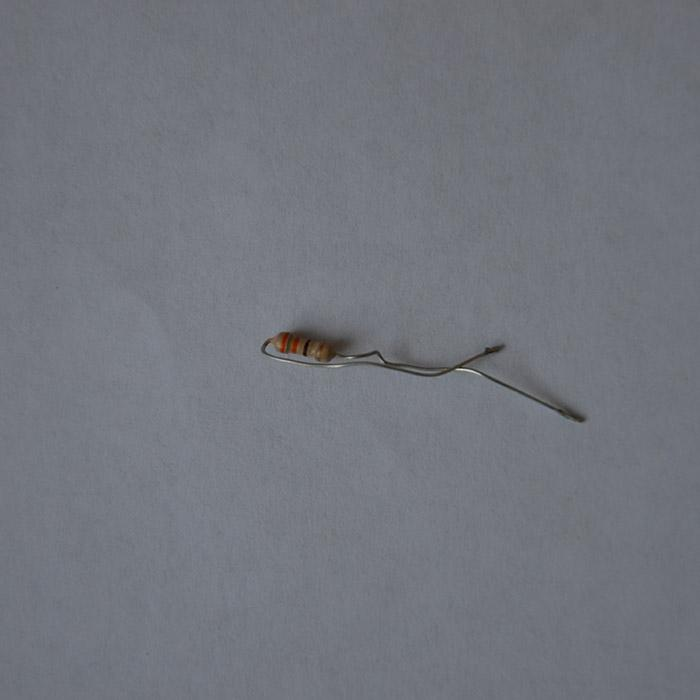resistor: (268, 330, 334, 362)
